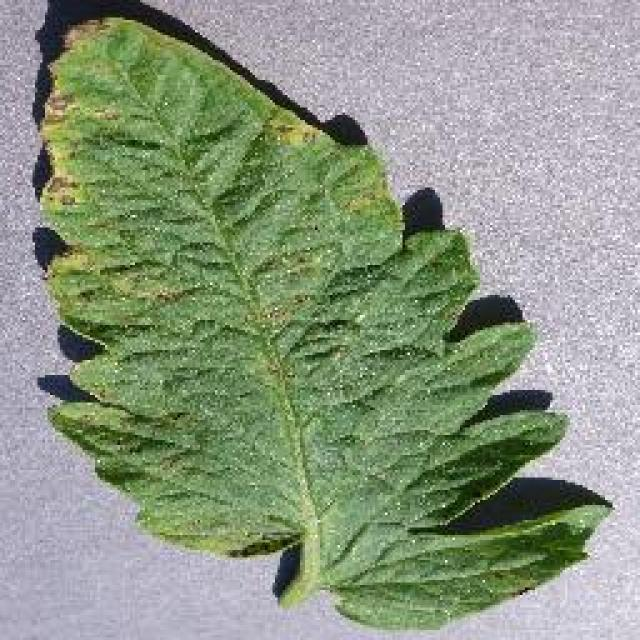Tomato Septoria spot leaf: (34, 15, 610, 635)
